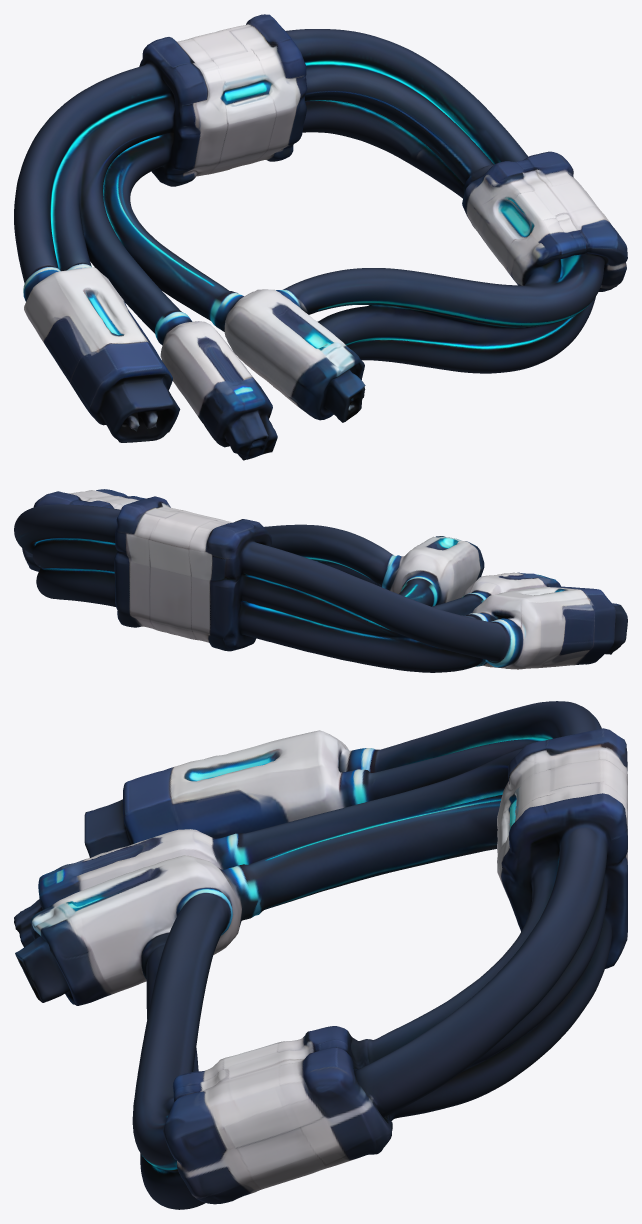
The model's file is kabel_ruwet1.fbx.
3 renders of one model, top to bottom at view 1: azimuth 30°, elevation 25°; view 2: azimuth 150°, elevation 25°; view 3: azimuth 270°, elevation 25°, orthographic. The views are drawn at different scales.
Visible parts, largest first — view 1: model.014; view 2: model.014; view 3: model.014.
Boxes of the visible parts, x1,y1,x2,y2 form: model.014: (14,14,627,460); model.014: (14,489,627,672); model.014: (14,701,627,1209).
Size of the model in its own units: 176 by 77.47 by 129.
1 material, 1 textured.
